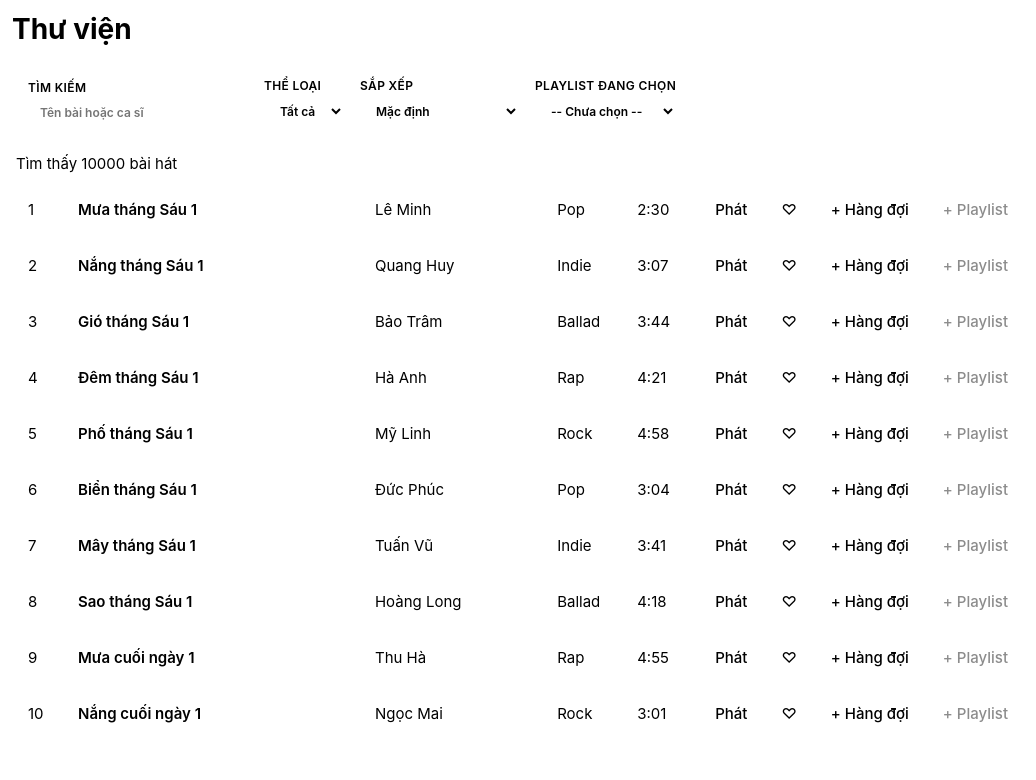
LibraryPage › tìm "mưa" sau khi debounce thì còn 1250 bài
In the search field labelled "Tìm kiếm": (138, 112) left=28, top=99, right=248, bottom=126, type "mưa"
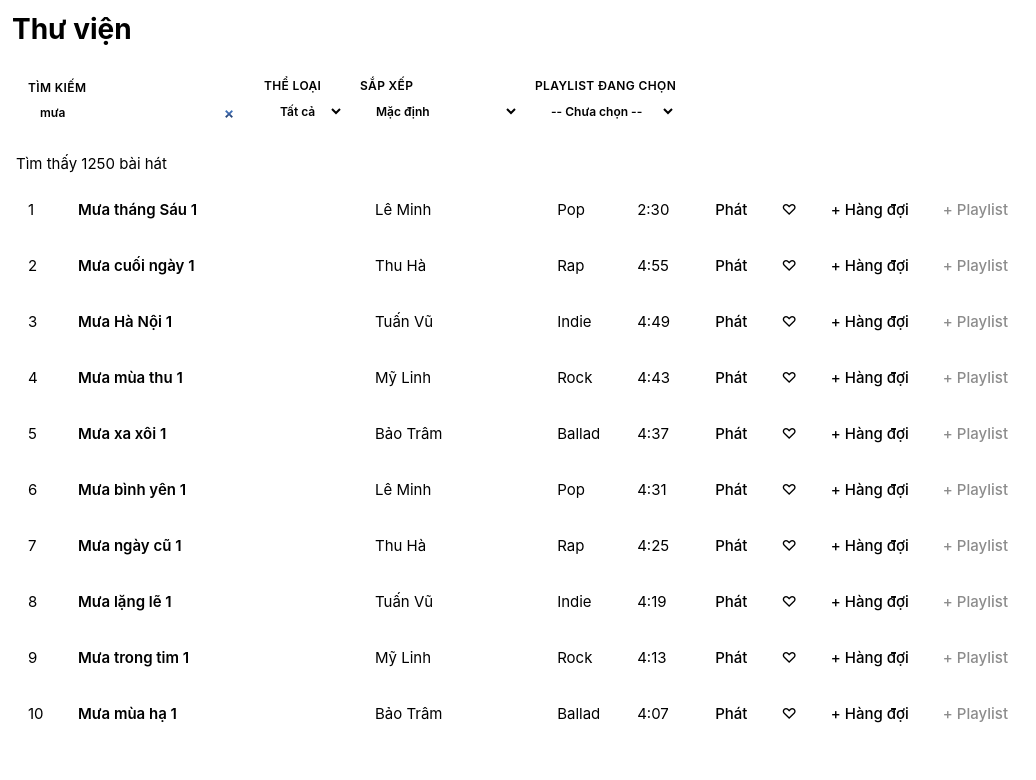
Now the text "Tìm thấy 1250 bài hát" is shown, box left=16, top=154, right=167, bottom=173
